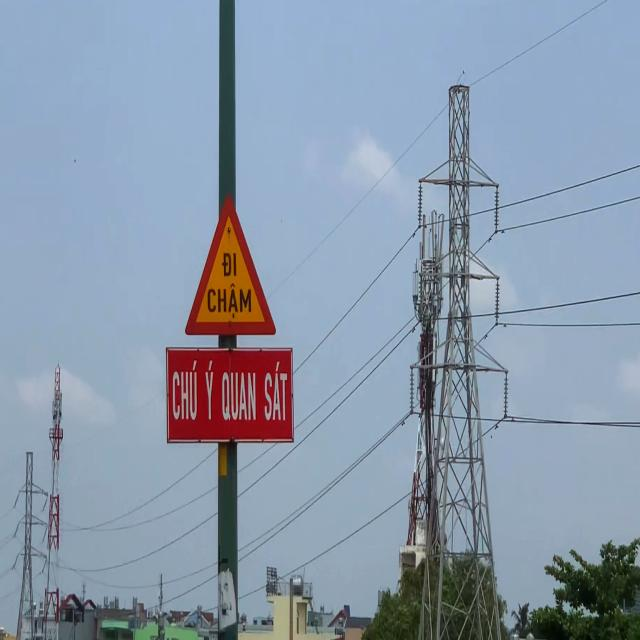Nguy hiem: (183, 188, 278, 340)
